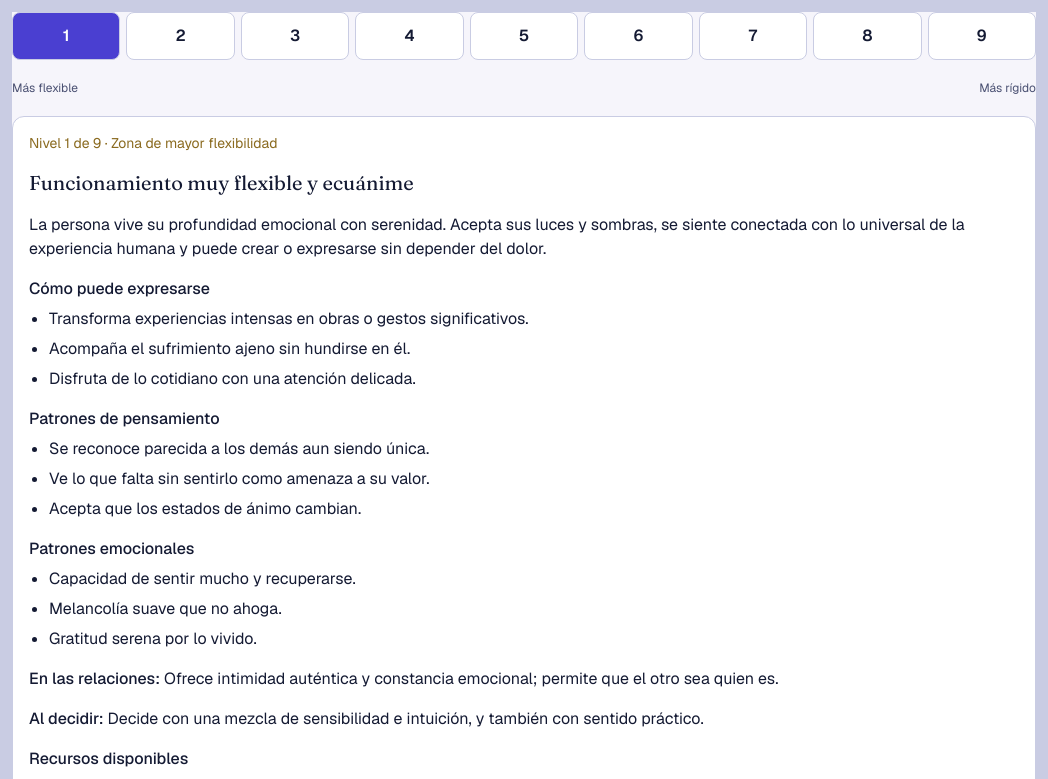
Test: LevelStrip › selects a level on click and shows its content
Step 1. Click the button "6" → coordinates (638, 36), box 584,12 -> 693,60
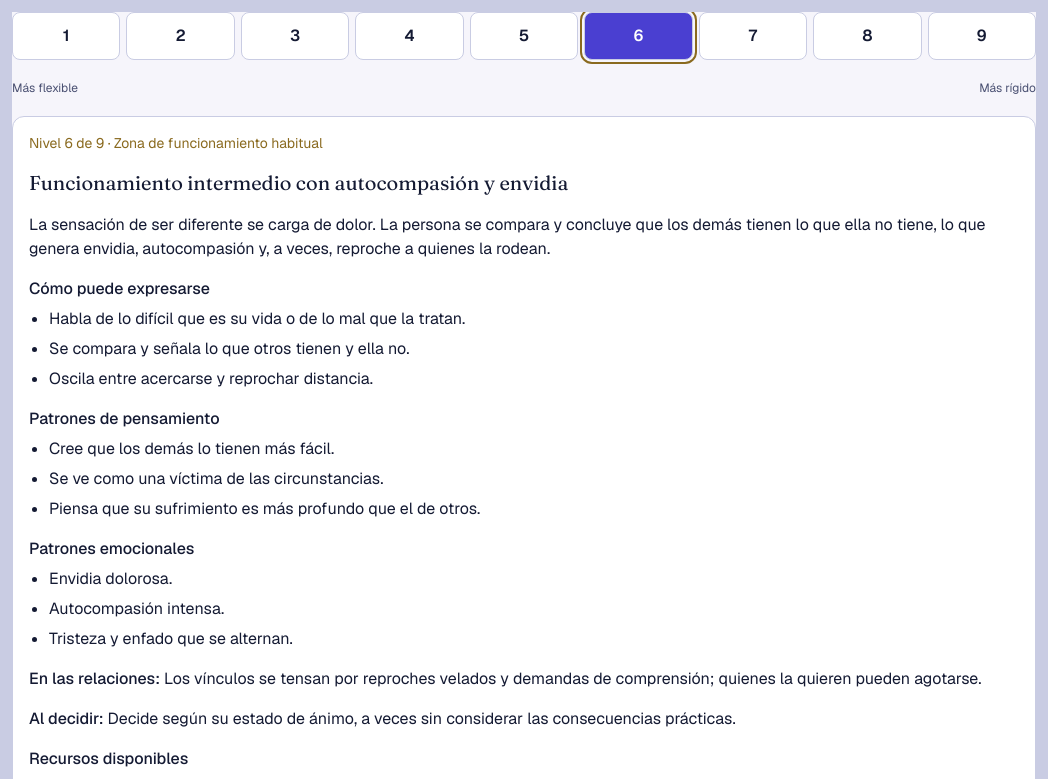
Check: the heading "Funcionamiento intermedio con autocompasión y envidia" is shown, box 29,170 -> 568,195
